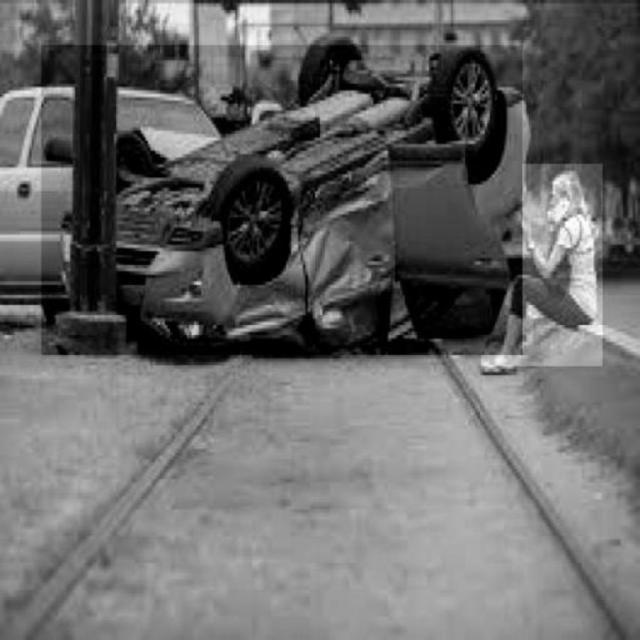accident: (41, 46, 521, 356)
person: (482, 164, 603, 366)
